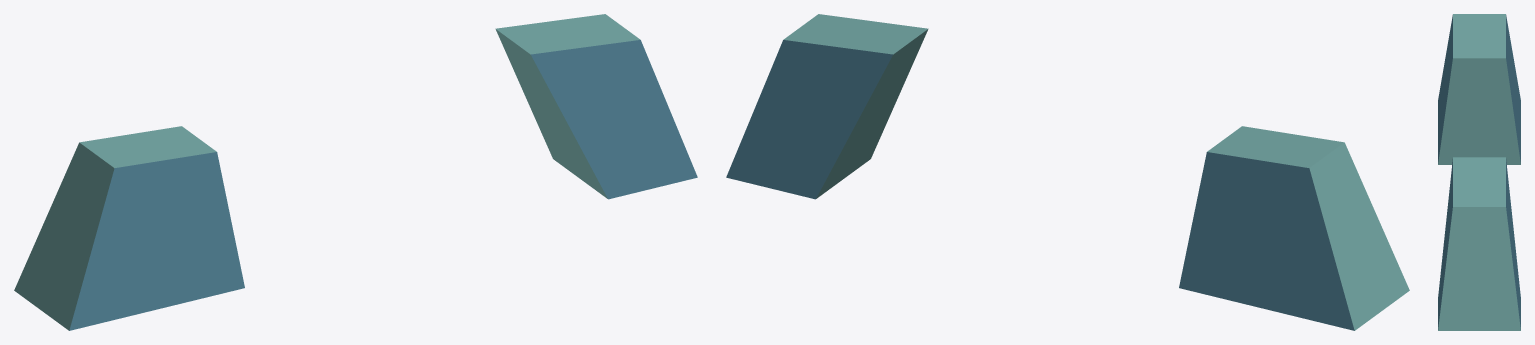
The model's file is mod_wall_broken.fbx.
The picture shows the model from 3 angles, left to right: view 1: azimuth 30°, elevation 25°; view 2: azimuth 150°, elevation 25°; view 3: azimuth 270°, elevation 25°; orthographic projection. The views are drawn at different scales.
Parts seen in each view (by area): view 1: mod_platform.001_cell.001; view 2: mod_platform.001_cell.001; view 3: mod_platform.001_cell.001.
Part boxes in pixels (x1=…): mod_platform.001_cell.001: x1=14, y1=14, x2=697, y2=330; mod_platform.001_cell.001: x1=726, y1=14, x2=1409, y2=330; mod_platform.001_cell.001: x1=1438, y1=14, x2=1520, y2=330.
Bounding box in the file's own units: 310 × 72.67 × 47.15.
